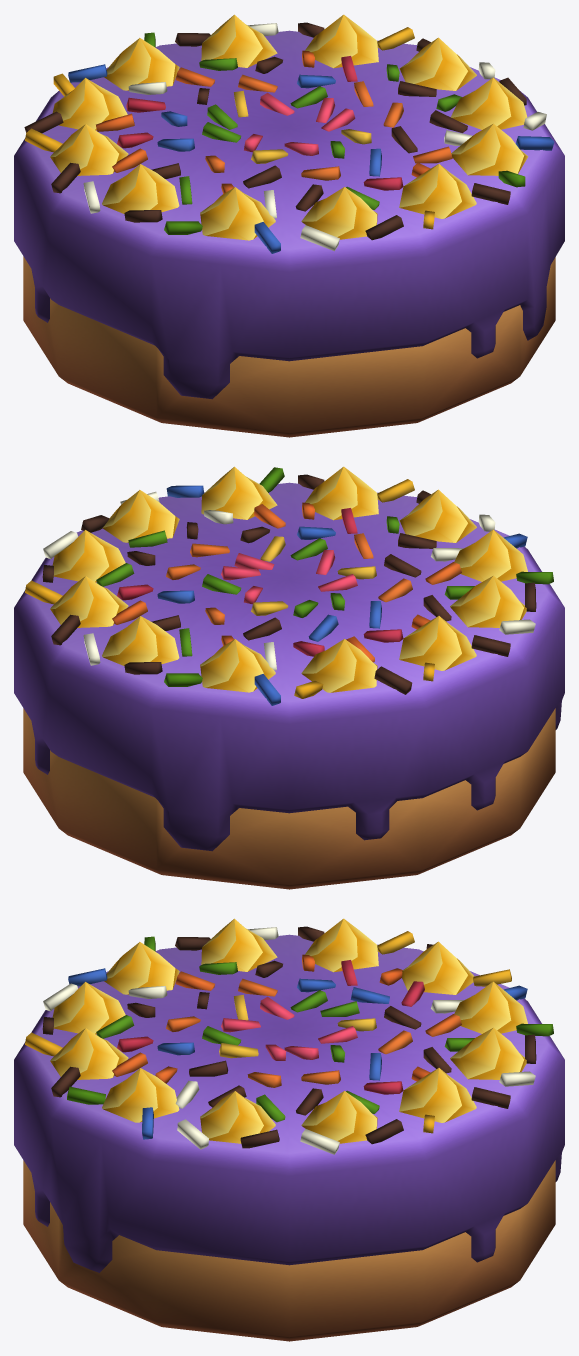
The model's file is m_RainbowCake02.fbx.
3 views of the same model, one above another, from view 1: azimuth 30°, elevation 25°; view 2: azimuth 150°, elevation 25°; view 3: azimuth 270°, elevation 25° (orthographic).
Visible parts, largest first — view 1: m_RainbowCake02; view 2: m_RainbowCake02; view 3: m_RainbowCake02.
Part boxes in pixels (box(x1,y1,x2,y2)): m_RainbowCake02: box(14, 14, 564, 437); m_RainbowCake02: box(14, 466, 564, 889); m_RainbowCake02: box(14, 918, 564, 1341).
Size of the model in its own units: 28.97 by 13.27 by 28.97.
